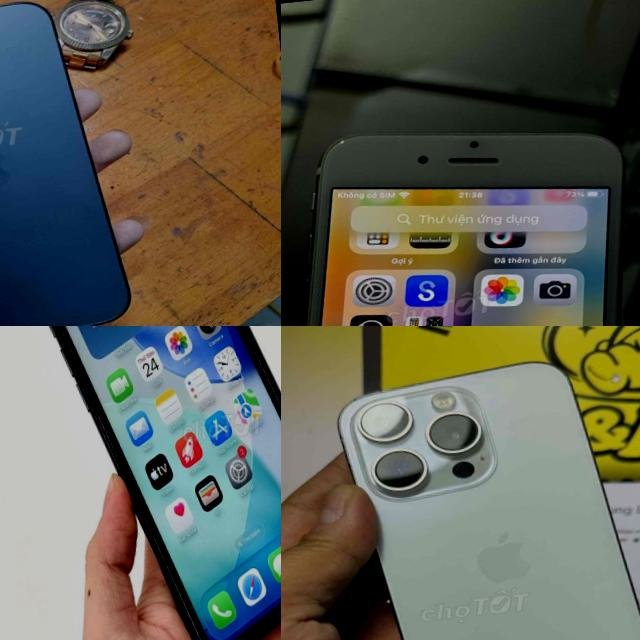gen_11: (18, 326, 281, 640)
gen_12_13: (0, 0, 138, 326)
gen_15: (327, 351, 640, 640)
gen_6: (281, 90, 640, 326)
